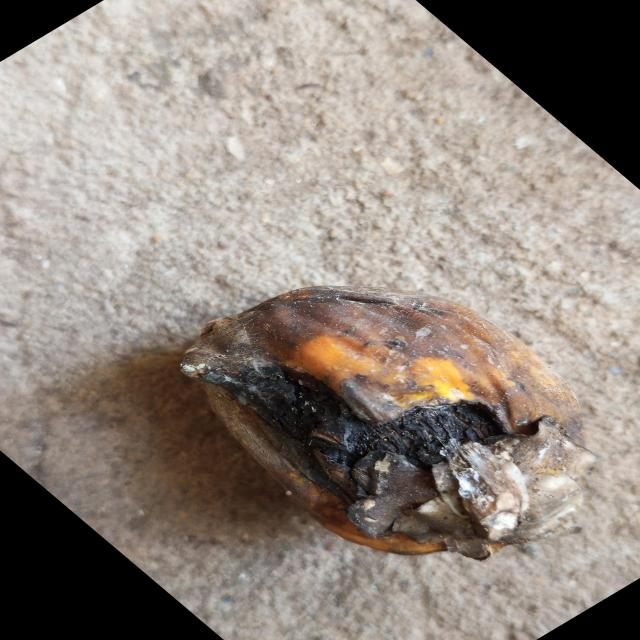damaged: (178, 286, 590, 563)
